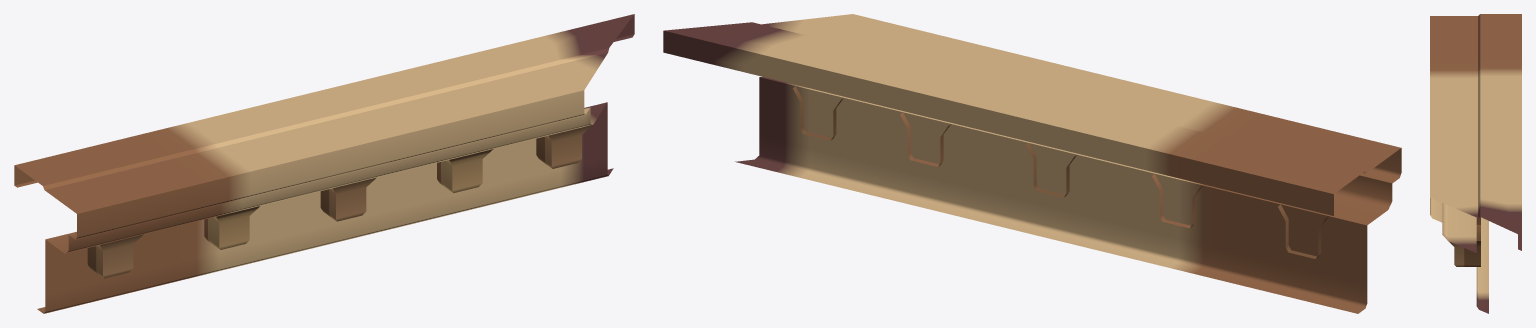
Rendered from DBK_Cornice_C_Full_Inside.fbx.
3 renders of one model, left to right at view 1: azimuth 30°, elevation 25°; view 2: azimuth 150°, elevation 25°; view 3: azimuth 270°, elevation 25°, orthographic. The views are drawn at different scales.
Parts seen in each view (by area): view 1: DBK_Cornice_C_Full_Inside; view 2: DBK_Cornice_C_Full_Inside; view 3: DBK_Cornice_C_Full_Inside.
Boxes of the visible parts, x1,y1,x2,y2 form: DBK_Cornice_C_Full_Inside: (14, 14, 634, 313); DBK_Cornice_C_Full_Inside: (663, 14, 1401, 313); DBK_Cornice_C_Full_Inside: (1430, 14, 1521, 313).
Bounding box in the file's own units: 323 × 63.25 × 56.36.
